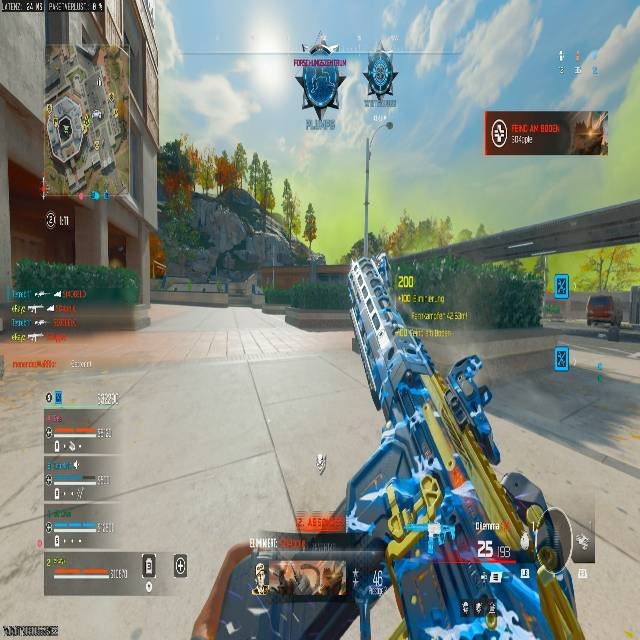head: (367, 51, 394, 88)
player: (447, 355, 493, 431)
